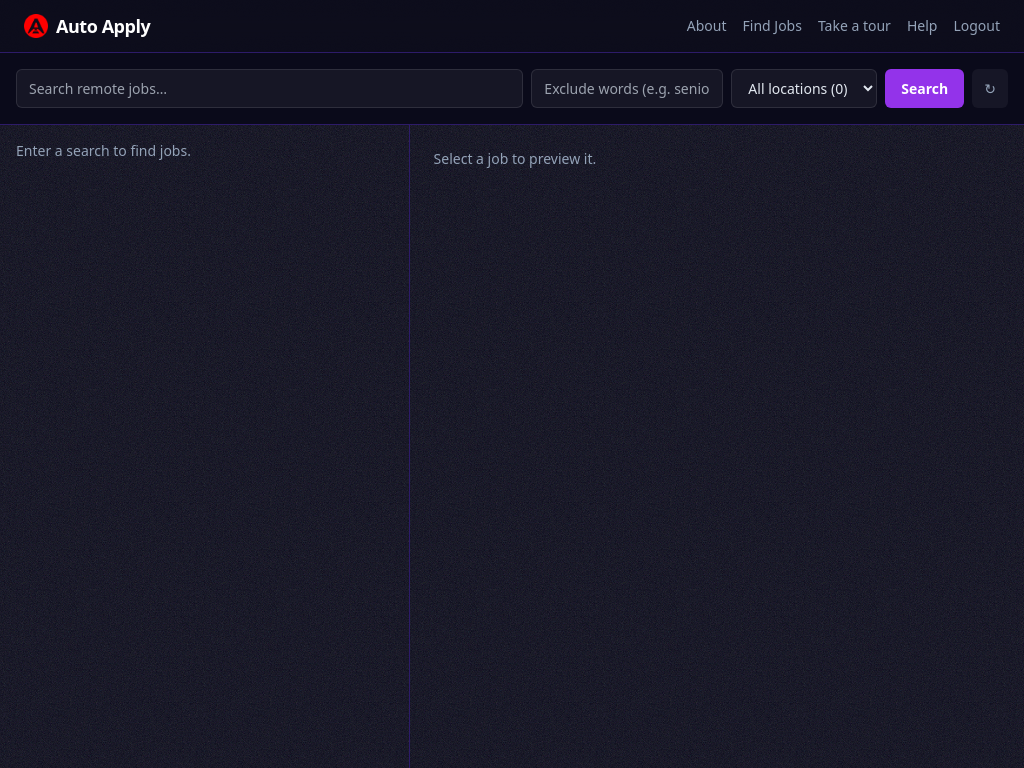
Scenario: shows region counts and filters the list by the selected region
Type "python" into the field with placeholder "Search remote jobs…" at (270, 88), box [16,69,523,108]
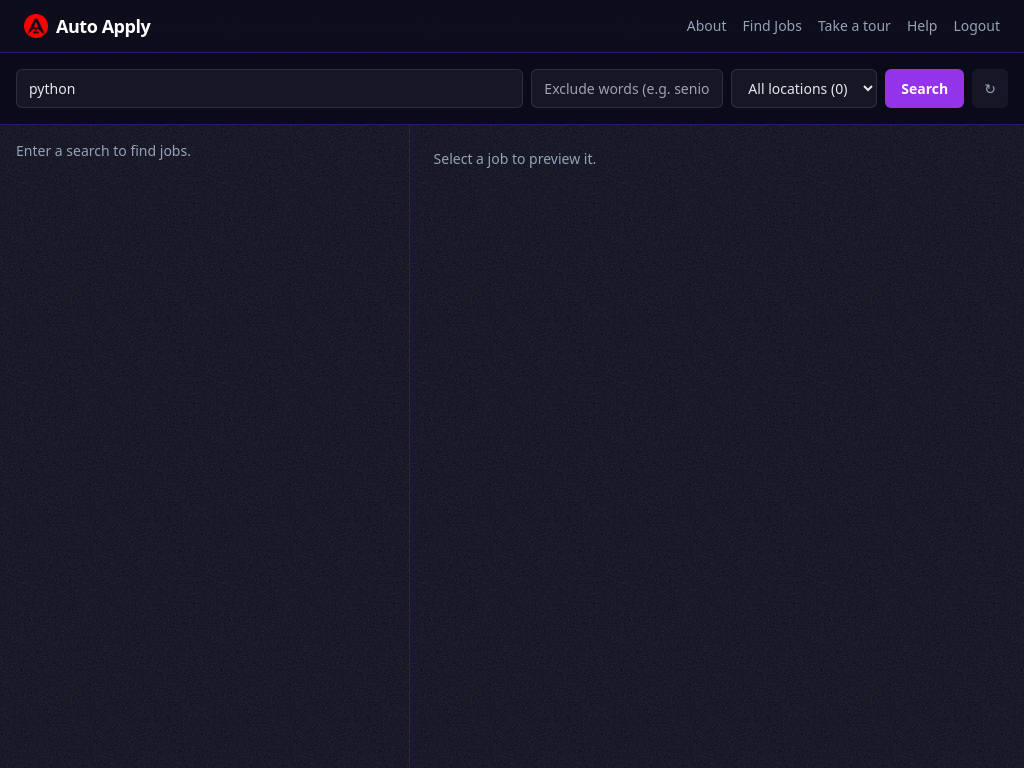
Click the button "Search" at (925, 88), box [885,69,964,108]
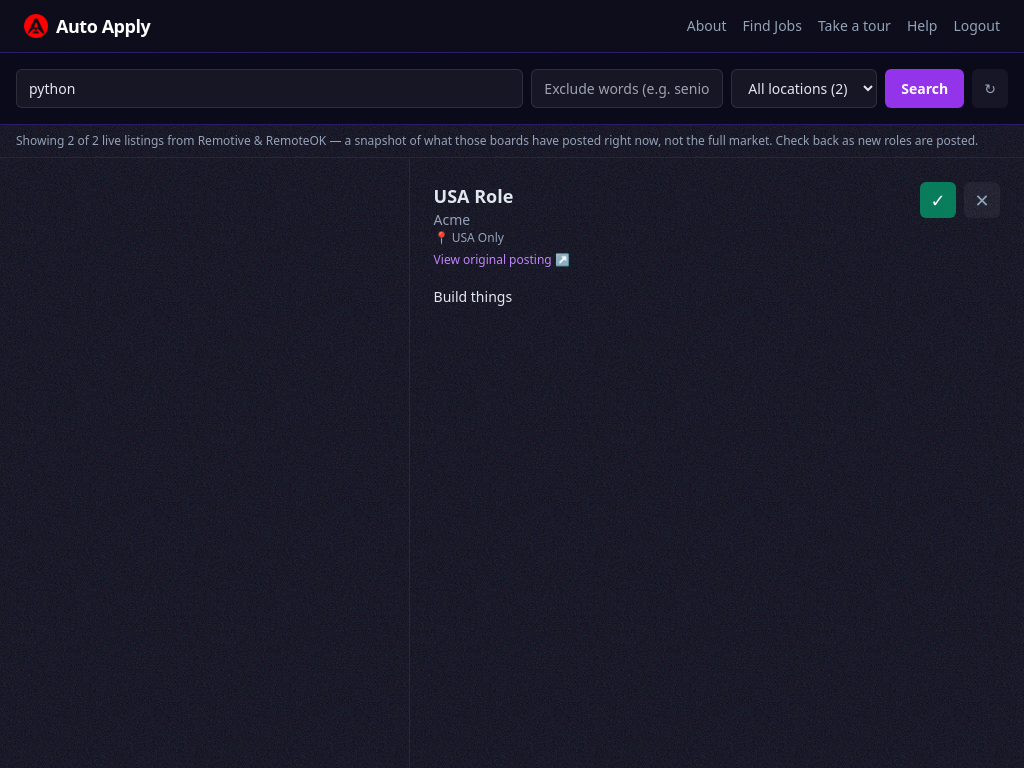
Select "USA (1)" in the dropdown named "location" at (804, 88), box [731,69,877,108]
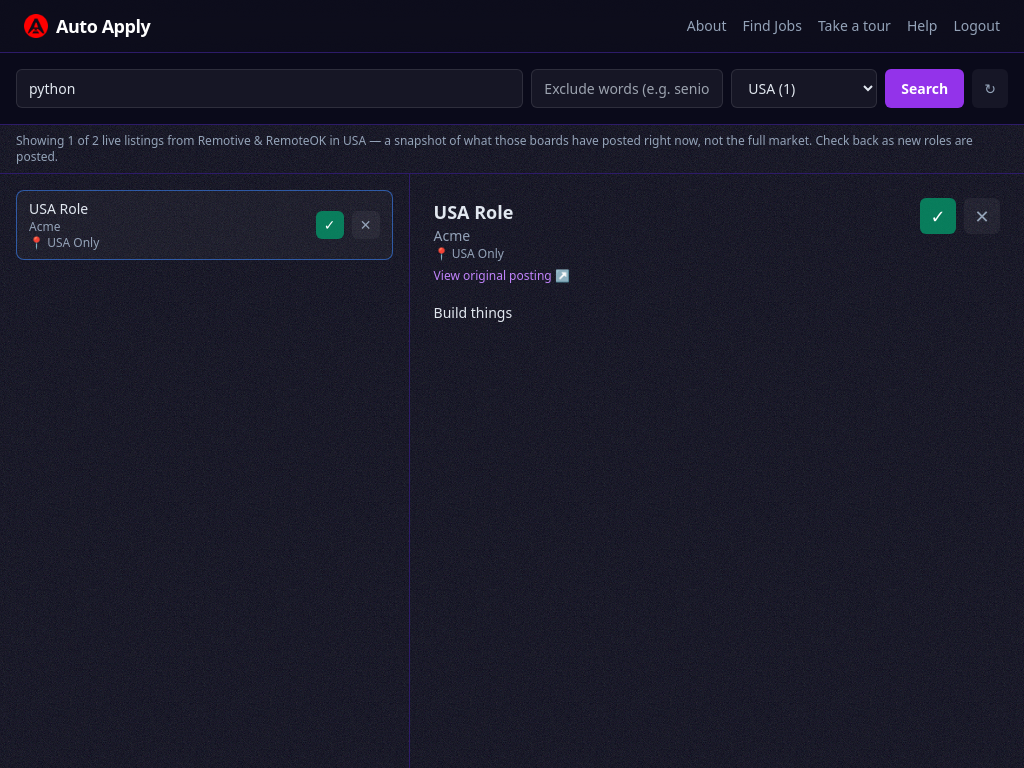
Expected: the text "USA Role" is shown, [29,199,88,219]
